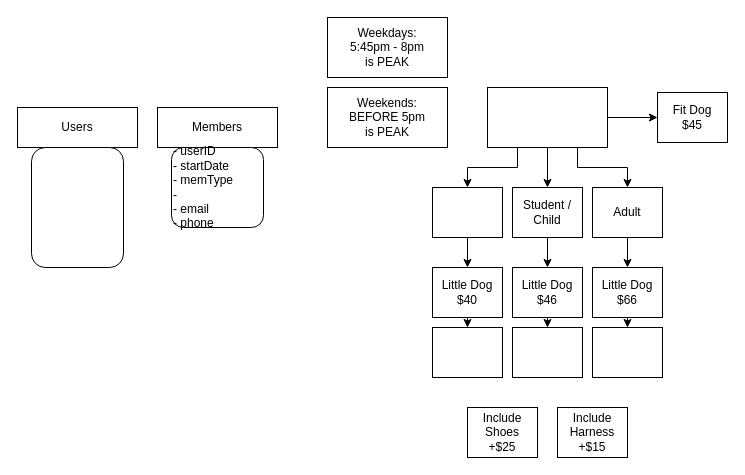
The diagram is 745 pixels wide and 475 high, and some of its shapes have lost their labels. Here are the shapes that lost their labels. From the top down, the centre of each, then its label:
At pixel 547 117: "ONGOING MEMBERSHIPS +$35 sign-up fee".
At pixel 77 207: "- userID - fName - lName - email - phone".
At pixel 467 212: "Off Peak".
At pixel 467 352: "Big Dog $55".
At pixel 547 352: "Big Dog $59".
At pixel 627 352: "Big Dog $79".
